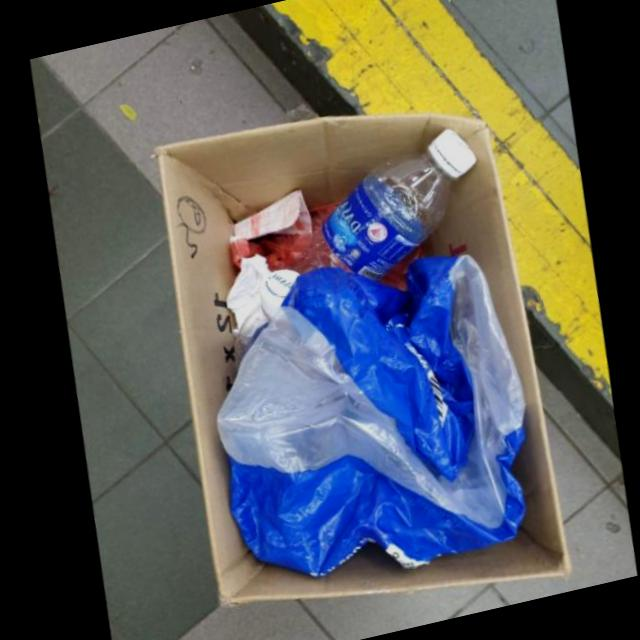chai_nhua_pet: (286, 119, 476, 273), (234, 262, 301, 366)
giay: (231, 183, 312, 238)
tui_ni_long: (219, 245, 530, 573)
